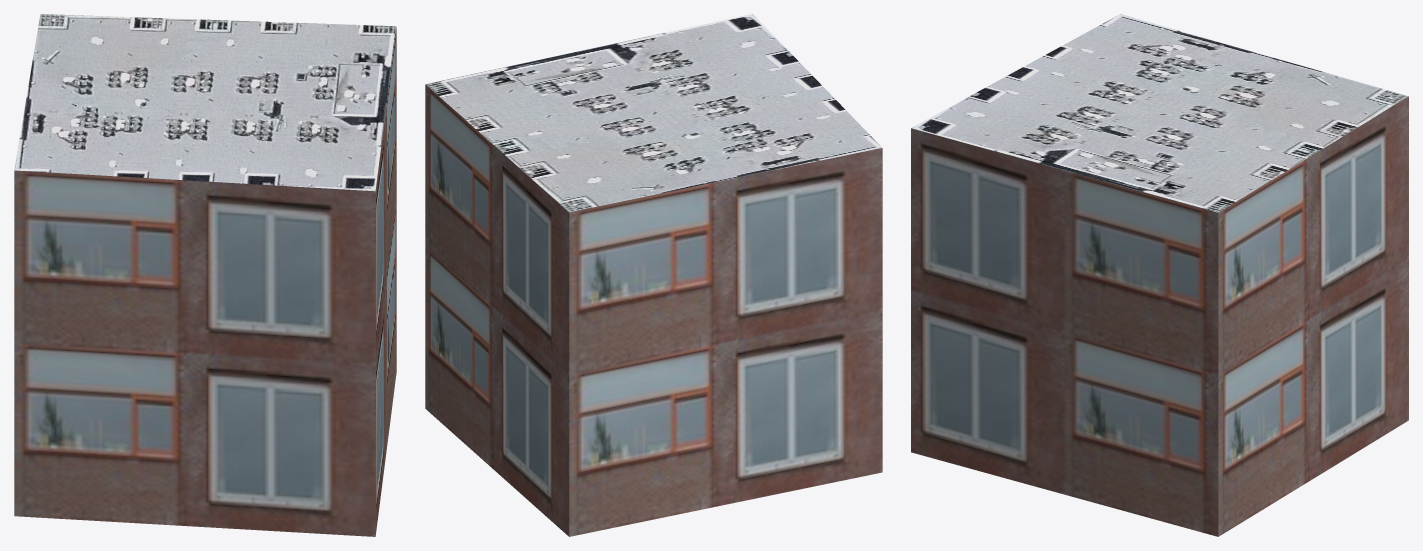
The model's file is ResTex__2459.fbx.
3 views of the same model, side by side, from view 1: azimuth 30°, elevation 25°; view 2: azimuth 150°, elevation 25°; view 3: azimuth 270°, elevation 25° (orthographic). The views are drawn at different scales.
Parts seen in each view (by area): view 1: CityEngineMaterial_19_m, CityEngineMaterial_15_m; view 2: CityEngineMaterial_19_m, CityEngineMaterial_15_m; view 3: CityEngineMaterial_19_m, CityEngineMaterial_15_m.
Boxes of the visible parts, x1,y1,x2,y2 form: CityEngineMaterial_19_m: [14, 28, 396, 536]; CityEngineMaterial_15_m: [14, 14, 396, 191]; CityEngineMaterial_19_m: [425, 84, 882, 536]; CityEngineMaterial_15_m: [425, 14, 881, 212]; CityEngineMaterial_19_m: [911, 96, 1408, 536]; CityEngineMaterial_15_m: [911, 14, 1408, 212].
Bounding box in the file's own units: 7.89 × 6 × 8.35.
Materials: 2 (2 with a texture image).
